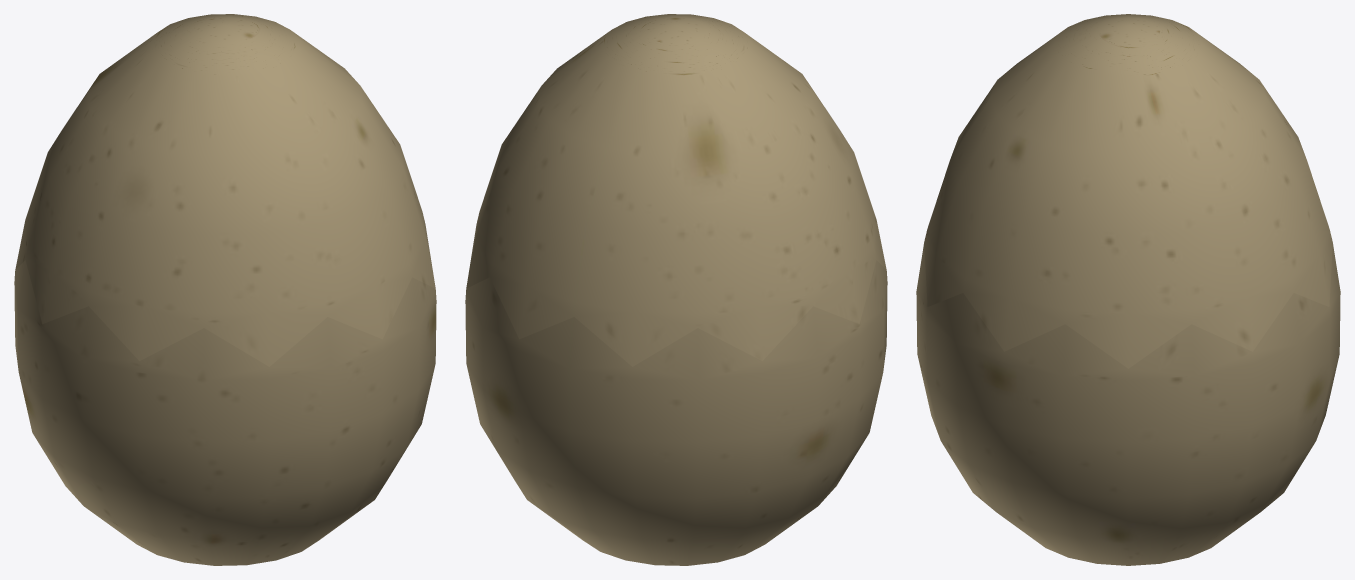
Rendered from Egg Shell Two Parts.fbx.
3 renders of one model, left to right at view 1: azimuth 30°, elevation 25°; view 2: azimuth 150°, elevation 25°; view 3: azimuth 270°, elevation 25°, orthographic.
Parts seen in each view (by area): view 1: Egg_Shell_Bottom, Egg_Shell_Top; view 2: Egg_Shell_Bottom, Egg_Shell_Top; view 3: Egg_Shell_Bottom, Egg_Shell_Top.
Part boxes in pixels (<box>): Egg_Shell_Bottom: <box>15,14,435,366</box>; Egg_Shell_Top: <box>14,260,436,565</box>; Egg_Shell_Bottom: <box>466,14,886,366</box>; Egg_Shell_Top: <box>465,260,887,565</box>; Egg_Shell_Bottom: <box>924,14,1332,368</box>; Egg_Shell_Top: <box>916,242,1340,565</box>.
Size of the model in its own units: 0.5635 by 0.7698 by 0.5635.
Materials: 1 (1 with a texture image).
